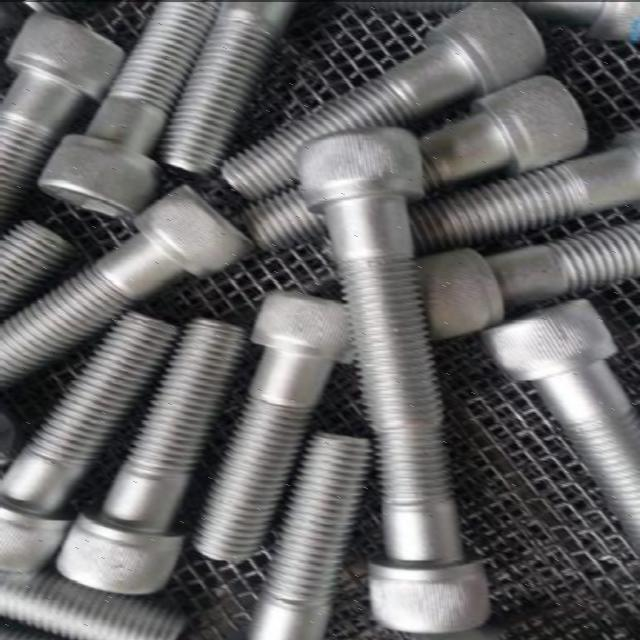Bolt: (218, 0, 547, 201), (246, 70, 590, 249), (52, 310, 251, 596), (0, 179, 254, 379), (0, 304, 177, 570), (190, 286, 359, 564), (295, 125, 447, 434), (480, 291, 640, 552), (35, 0, 218, 217), (0, 6, 128, 226), (244, 424, 374, 640), (366, 434, 494, 634), (155, 0, 293, 175)
